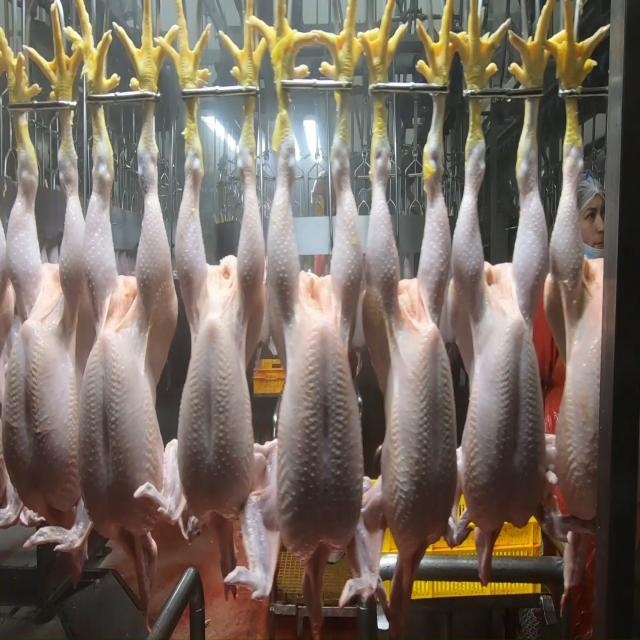chicken: (81, 95, 175, 558), (267, 125, 365, 544), (444, 133, 543, 543), (366, 135, 454, 544), (1, 138, 88, 523), (180, 141, 267, 511), (551, 134, 609, 524)
